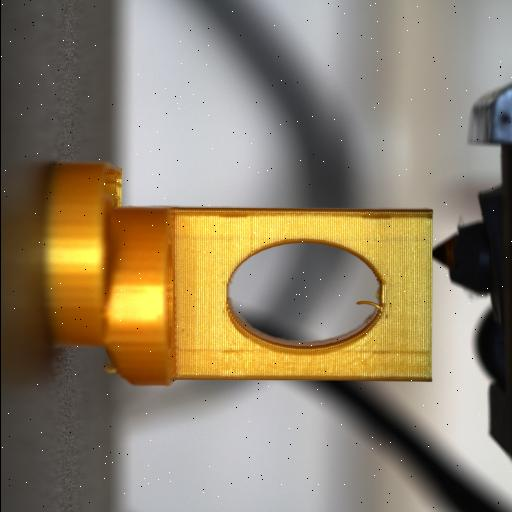layer_shift: (94, 160, 132, 385)
